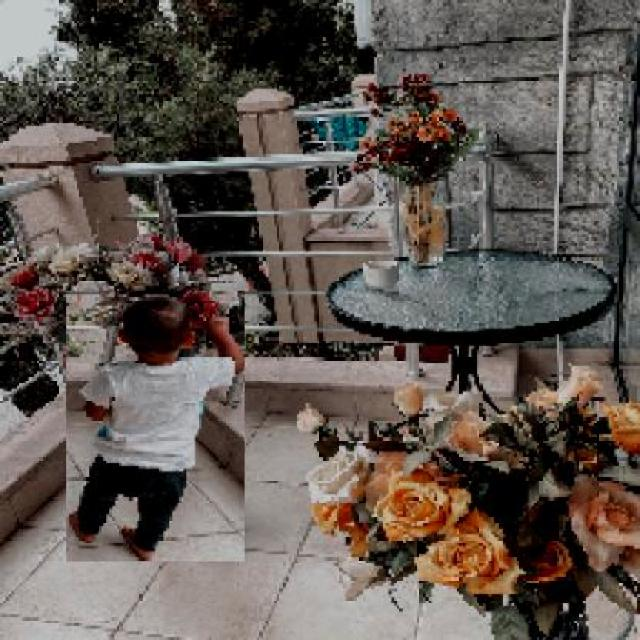child: (64, 291, 244, 563)
